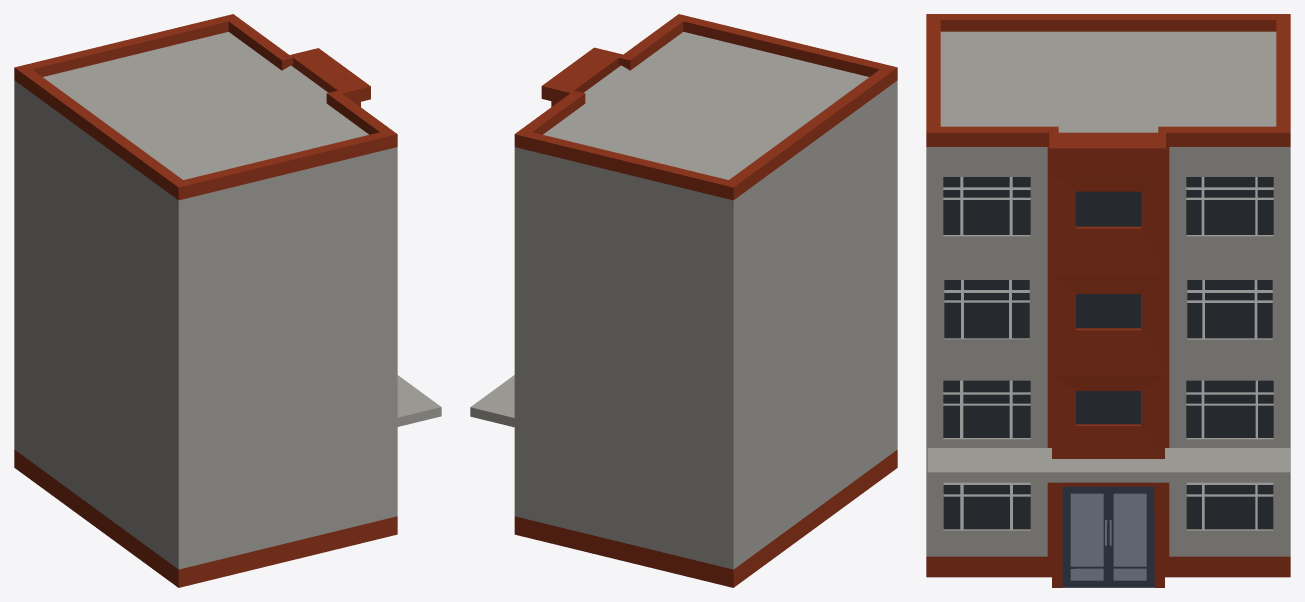
File: Building_PanelSmall_Red.fbx
3 views of the same model, side by side, from view 1: azimuth 30°, elevation 25°; view 2: azimuth 150°, elevation 25°; view 3: azimuth 270°, elevation 25° (orthographic). The views are drawn at different scales.
Visible parts, largest first — view 1: Cube; view 2: Cube; view 3: Cube.
Boxes of the visible parts, bbox=[...] form: Cube: bbox=[14, 14, 441, 587]; Cube: bbox=[470, 14, 897, 587]; Cube: bbox=[926, 14, 1290, 587].
Size of the model in its own units: 770 by 1118 by 831.
